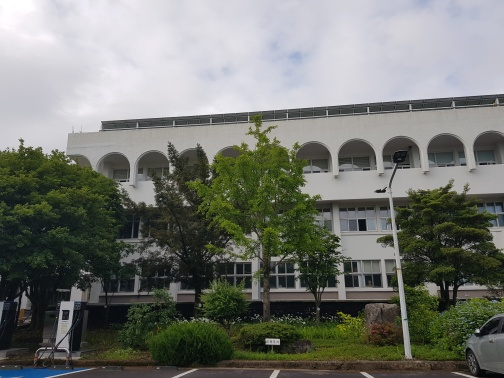Main Building of University: (61, 92, 498, 317), (335, 120, 473, 182)
